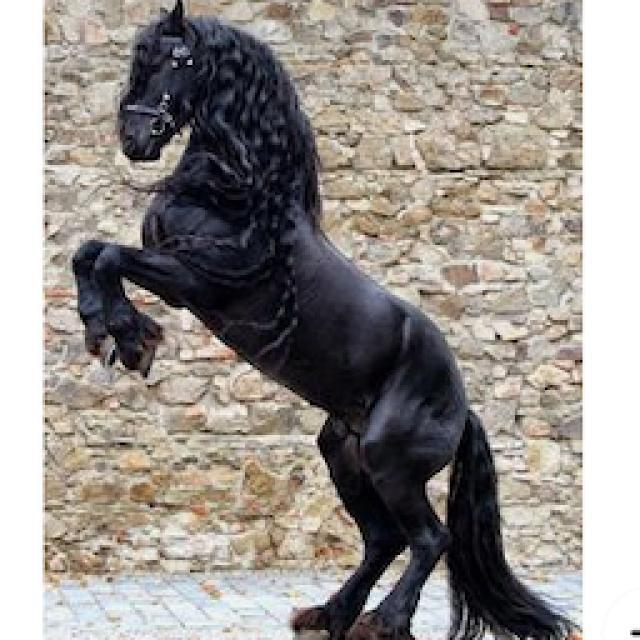Horse: (65, 0, 580, 638)
